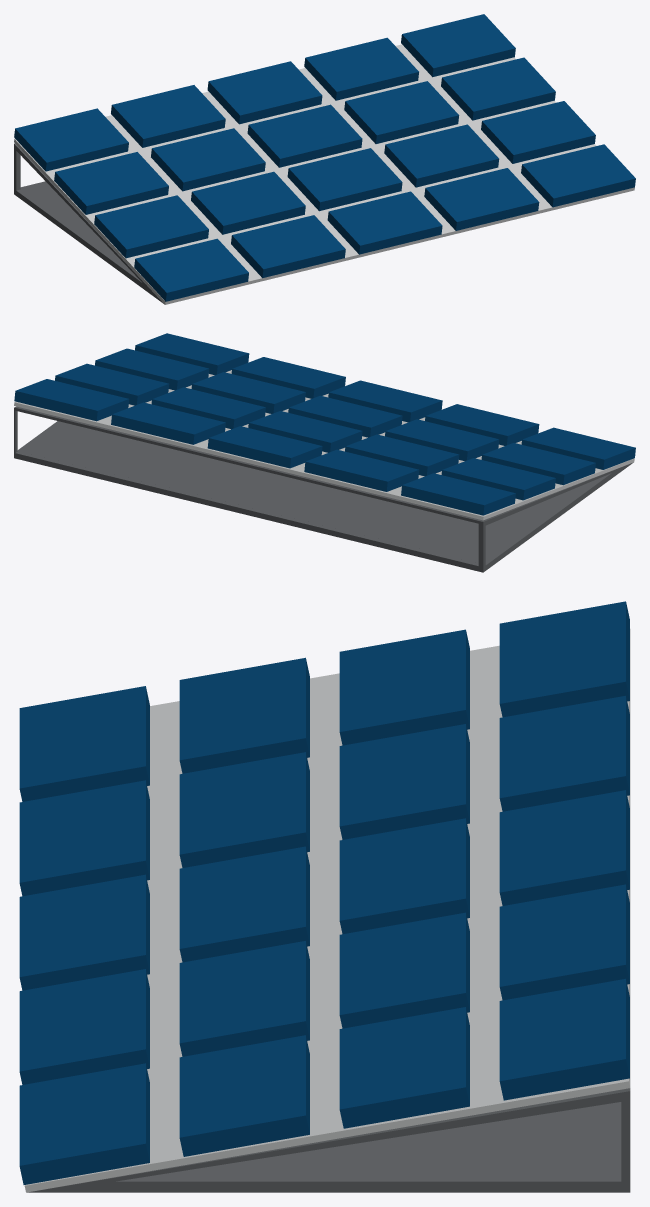
File: Solar Panel 4x5 small.glb
3 renders of one model, top to bottom at view 1: azimuth 30°, elevation 25°; view 2: azimuth 150°, elevation 25°; view 3: azimuth 270°, elevation 25°, orthographic. The views are drawn at different scales.
Visible parts, largest first — view 1: Mesh_Mesh_head_geo.001_lambert2SG.001; view 2: Mesh_Mesh_head_geo.001_lambert2SG.001; view 3: Mesh_Mesh_head_geo.001_lambert2SG.001.
Boxes of the visible parts, x1,y1,x2,y2 form: Mesh_Mesh_head_geo.001_lambert2SG.001: (14,14,635,304); Mesh_Mesh_head_geo.001_lambert2SG.001: (14,333,635,572); Mesh_Mesh_head_geo.001_lambert2SG.001: (19,601,630,1192).
Bounding box in the file's own units: 150 × 20.35 × 84.53.
